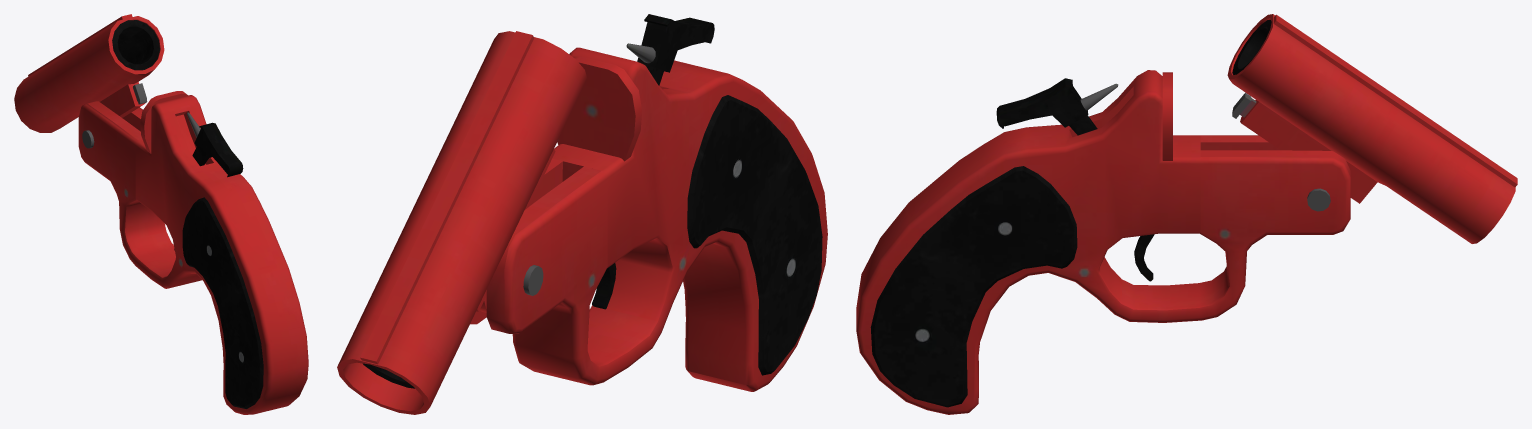
The model's file is FlareGun.glb.
The picture shows the model from 3 angles, left to right: view 1: azimuth 30°, elevation 25°; view 2: azimuth 150°, elevation 25°; view 3: azimuth 270°, elevation 25°; orthographic projection. The views are drawn at different scales.
Parts seen in each view (by area): view 1: Barrel; view 2: Barrel; view 3: Barrel.
Part boxes in pixels (x1,y1,x2,y2): Barrel: (14, 14, 308, 414); Barrel: (337, 14, 827, 414); Barrel: (856, 14, 1517, 414).
Size of the model in its own units: 0.0327 by 0.1768 by 0.2743.
1 material, 1 textured.
